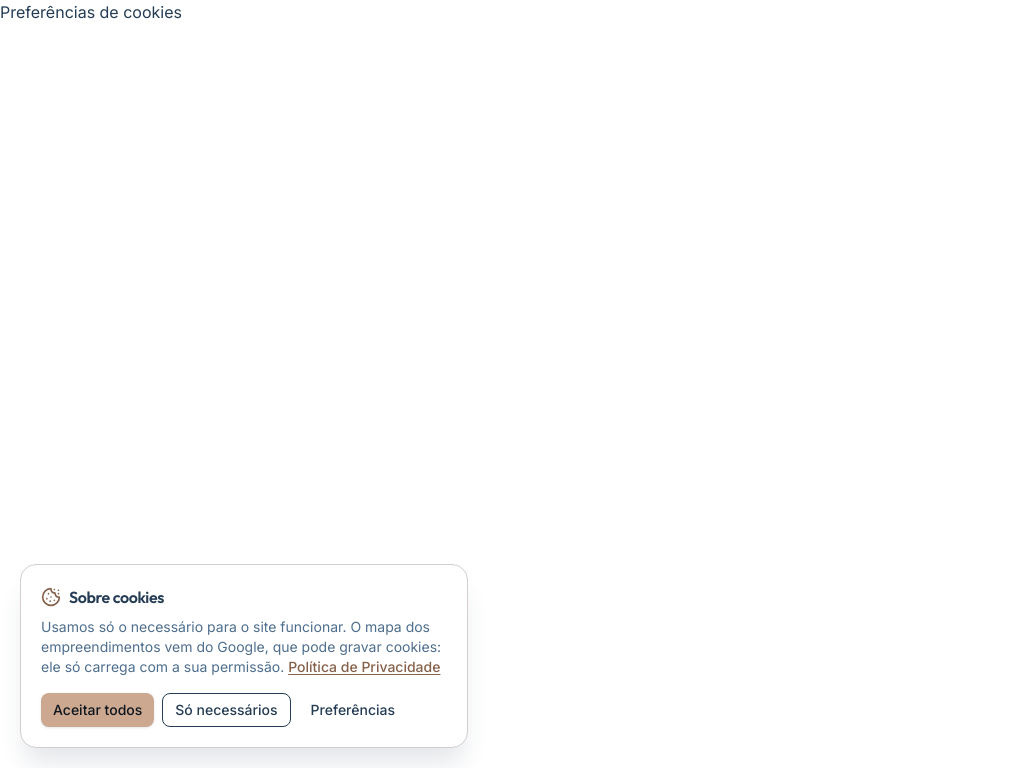
Test: CookieBanner › fechar as preferências sem salvar devolve o foco ao botão do aviso
The width and height of the screenshot is (1024, 768).
Click the button "Preferências": (353, 710) [299, 693, 407, 727]
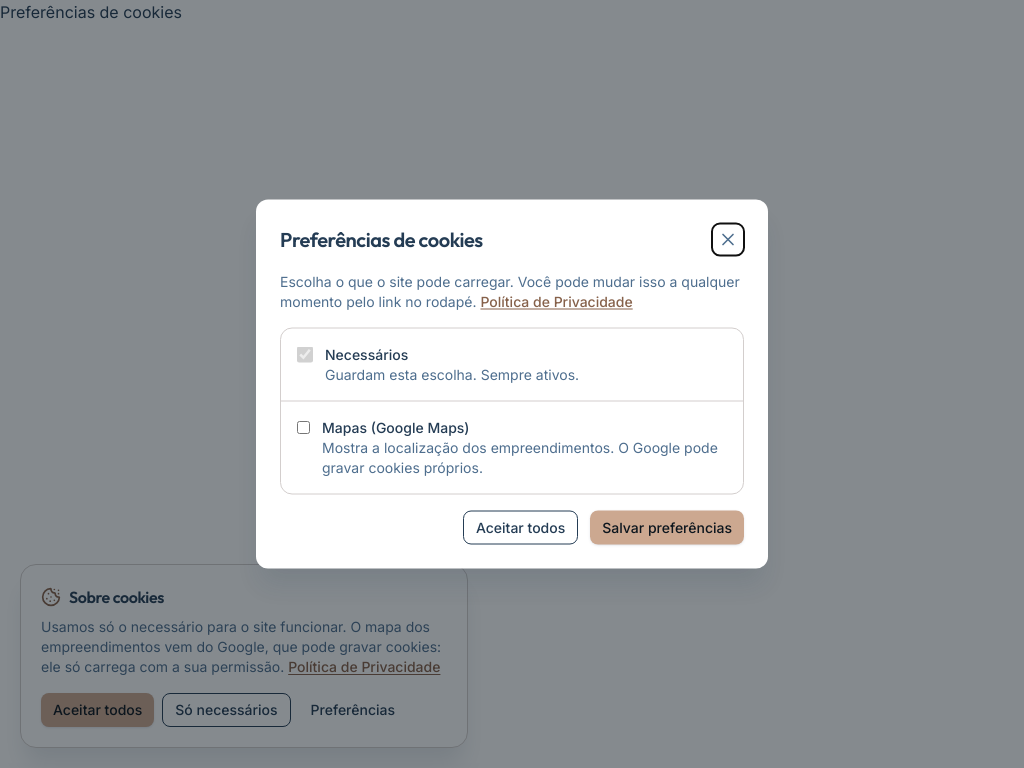
Now the dialog is shown, box [256, 200, 768, 568]
Press Escape
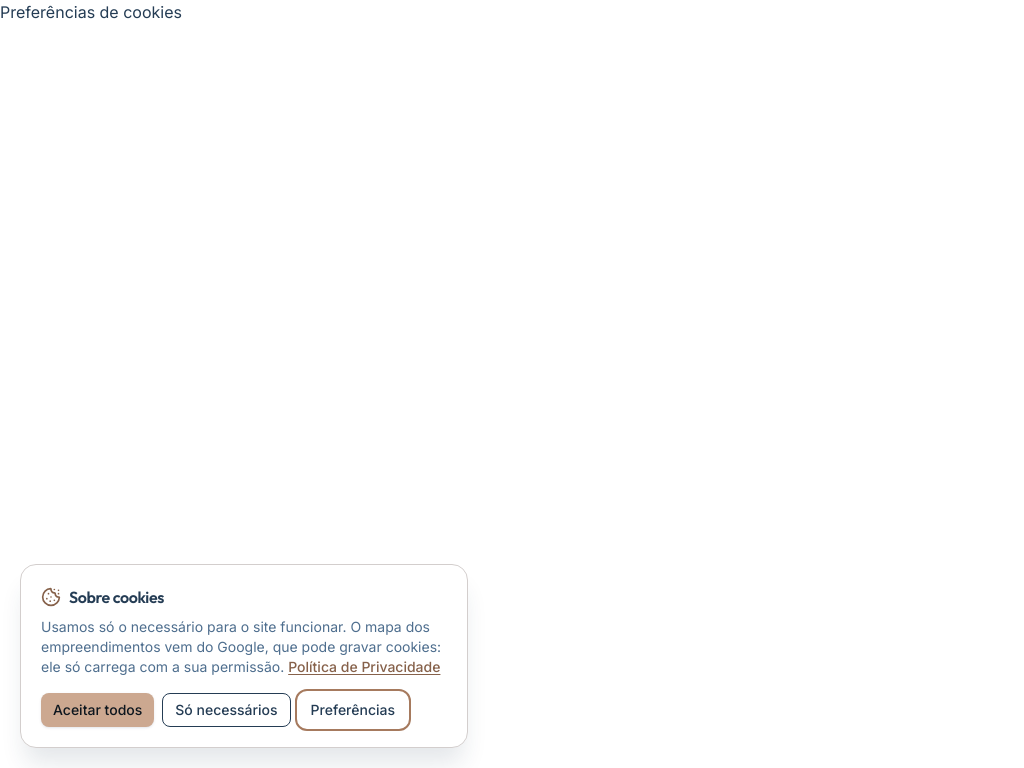
Expected: the element "cookies" is shown, [20, 564, 468, 748]
Now the dialog is gone
